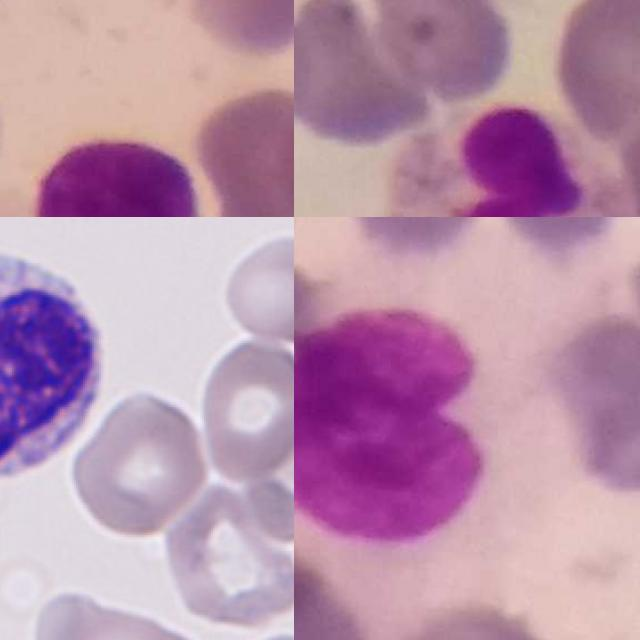Lymphocyte: (0, 236, 113, 494), (33, 133, 202, 217)
Monocyte: (294, 302, 539, 573)
Neutrophil: (369, 103, 635, 217)
RBC: (67, 384, 213, 540), (157, 478, 294, 632), (191, 334, 294, 485), (29, 591, 214, 640), (218, 227, 294, 344), (241, 399, 294, 549), (206, 629, 294, 640)
